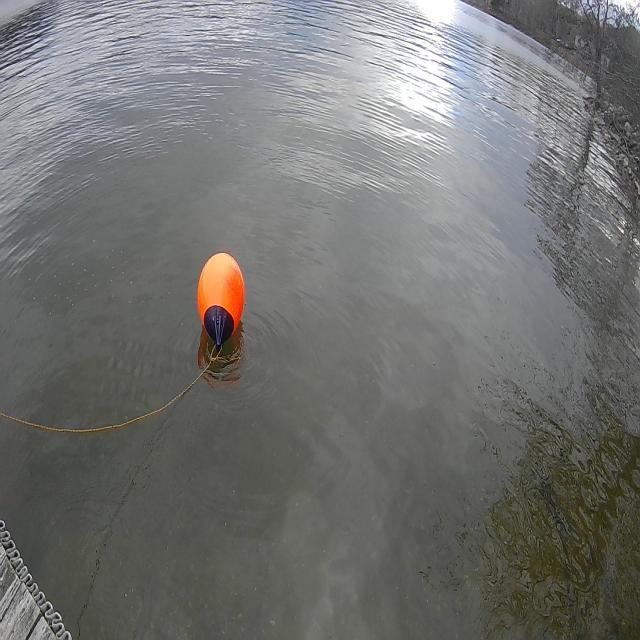Buoy: (194, 245, 247, 336)
